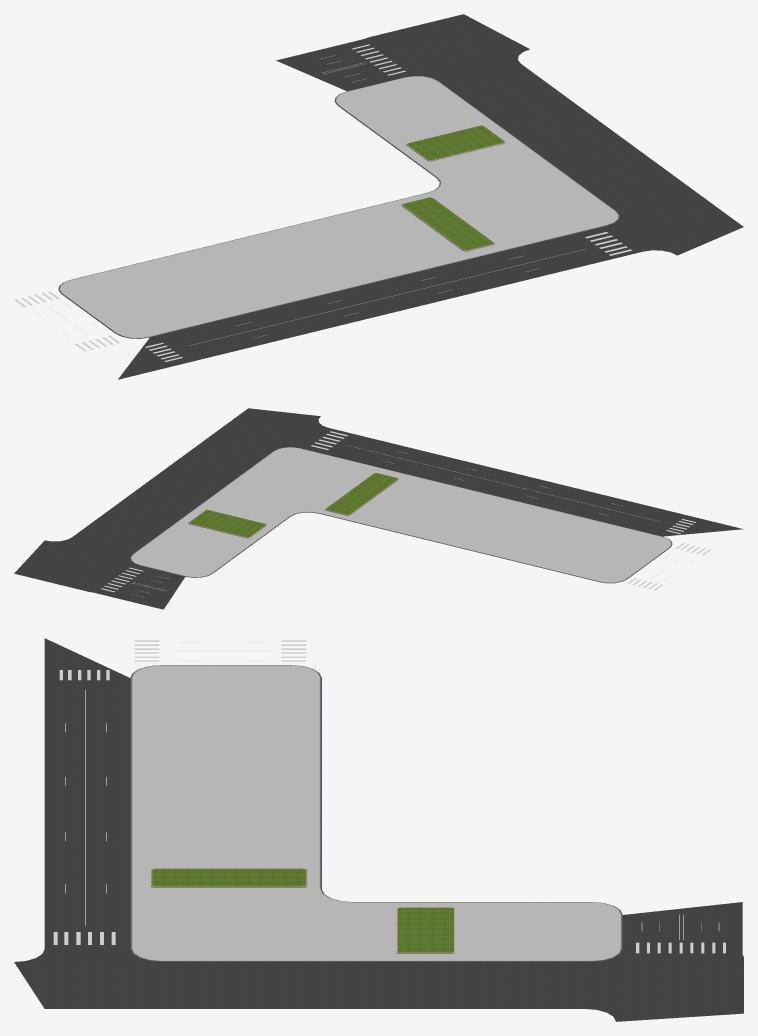
The model's file is Terrain_Area_04.fbx.
The picture shows the model from 3 angles, top to bottom: view 1: azimuth 30°, elevation 25°; view 2: azimuth 150°, elevation 25°; view 3: azimuth 270°, elevation 25°; orthographic projection. The views are drawn at different scales.
Visible parts, largest first — view 1: Area_04, Road_08, Road_Alpha_20; view 2: Area_04, Road_08, Road_Alpha_20; view 3: Area_04, Road_08, Road_Alpha_20, Road_Alpha_19.
Boxes of the visible parts, <box> form: Area_04: <box>58,76,619,338</box>; Road_08: <box>118,14,743,379</box>; Road_Alpha_20: <box>145,232,631,361</box>; Area_04: <box>130,447,672,583</box>; Road_08: <box>14,408,743,609</box>; Road_Alpha_20: <box>311,431,695,533</box>; Area_04: <box>130,665,622,961</box>; Road_08: <box>14,638,743,1021</box>; Road_Alpha_20: <box>53,670,115,944</box>; Road_Alpha_19: <box>134,640,306,661</box>.
Bounding box in the file's own units: 14935 × 21.84 × 12005.
